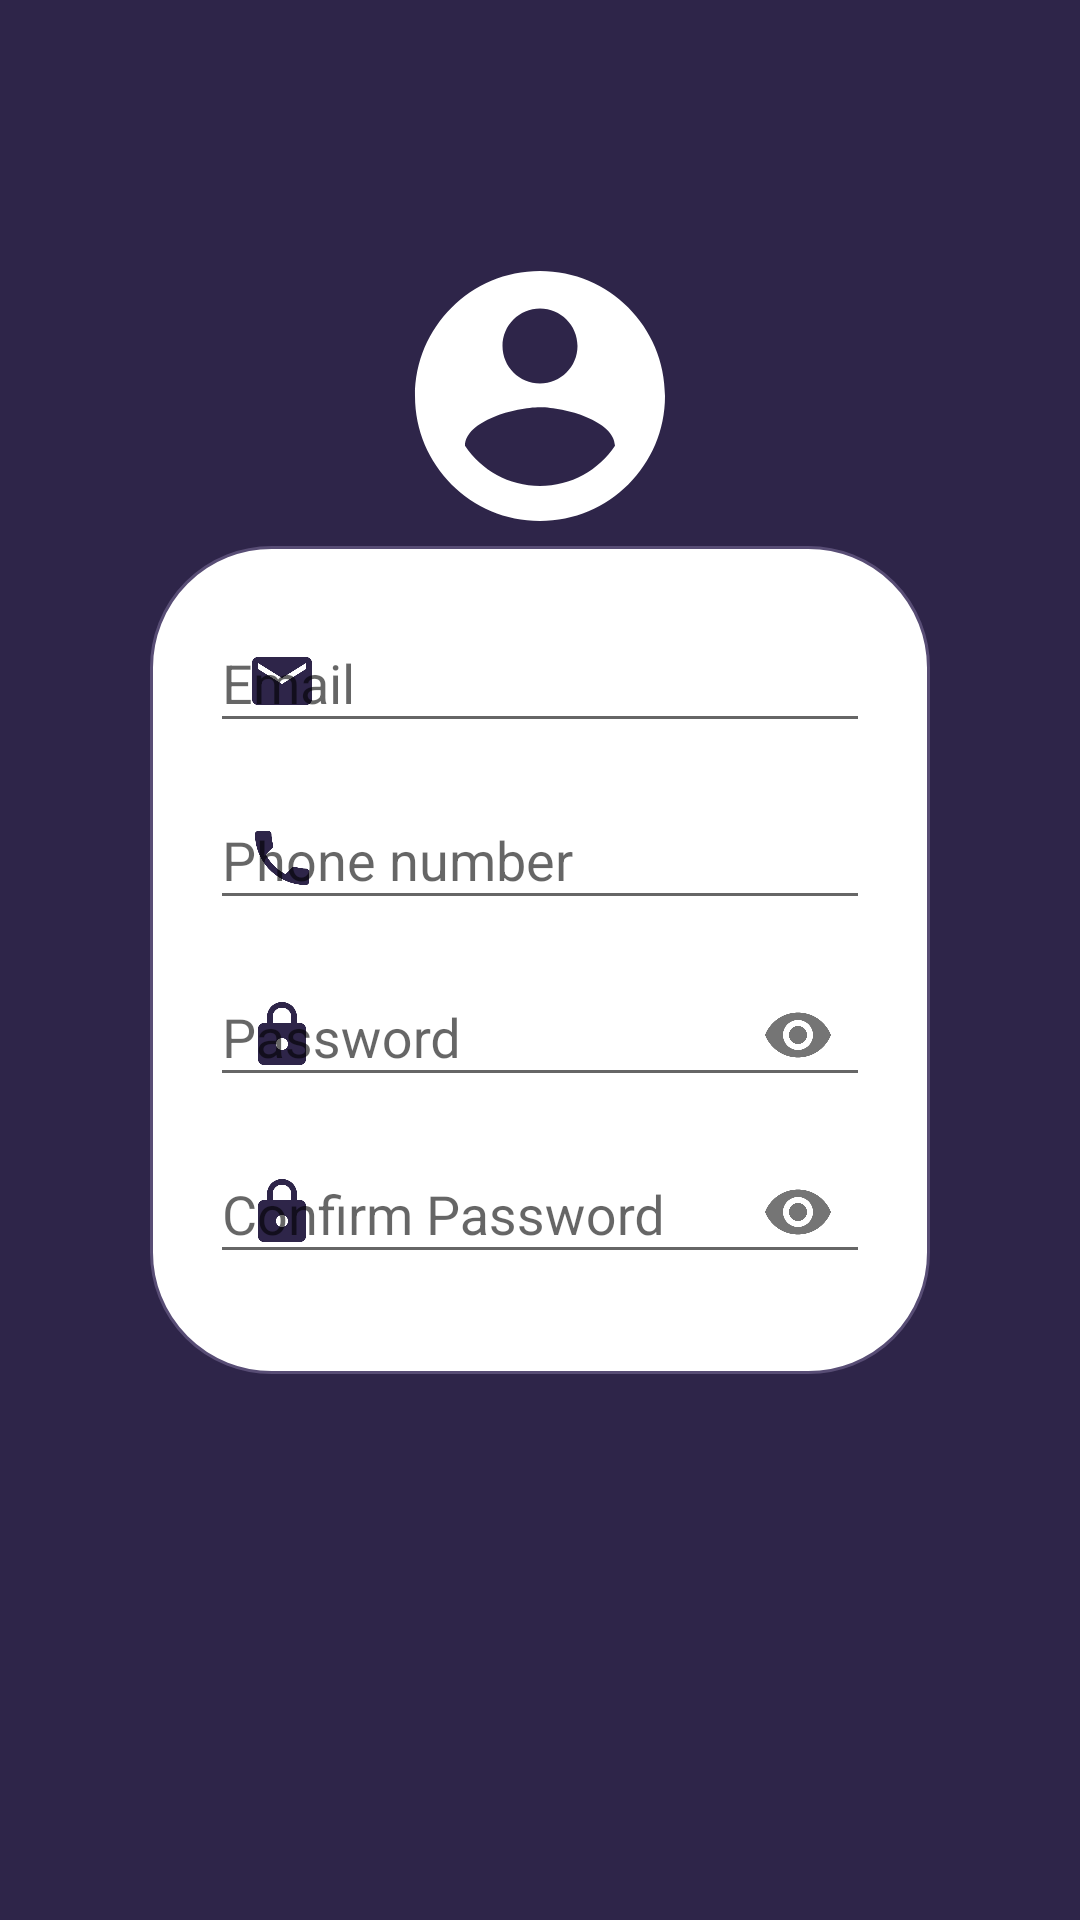

Icon click points for this 1080x1920 phone screenshot, format [x,y]:
user: [540,396]
